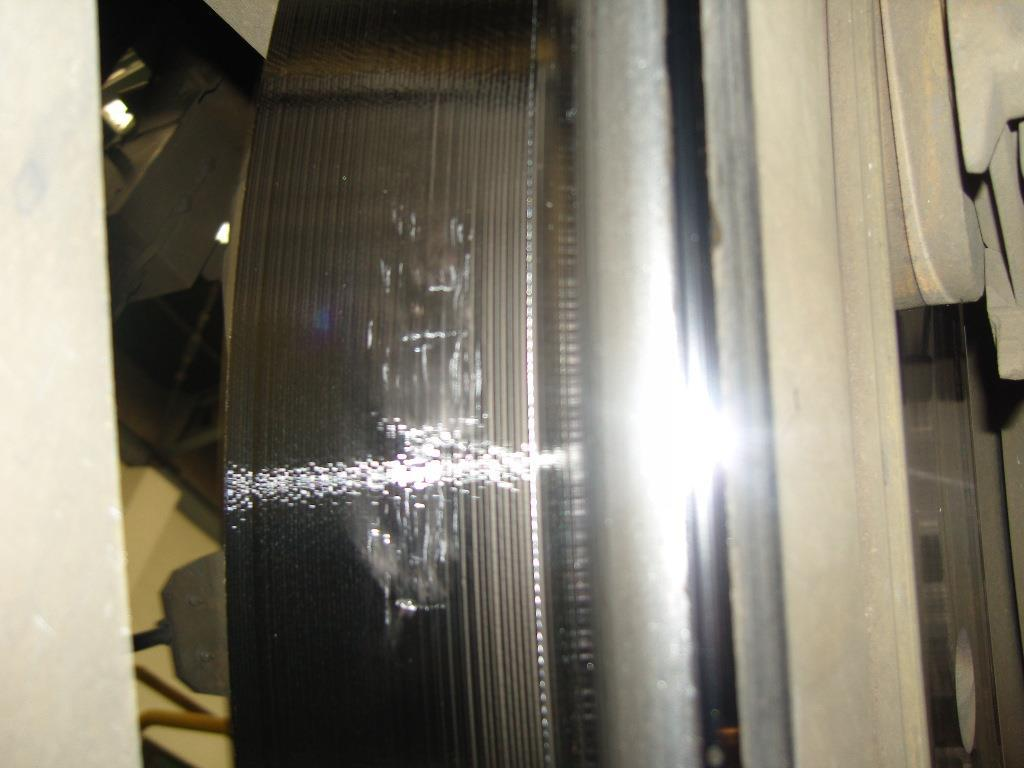Shelling: (353, 208, 486, 608)
